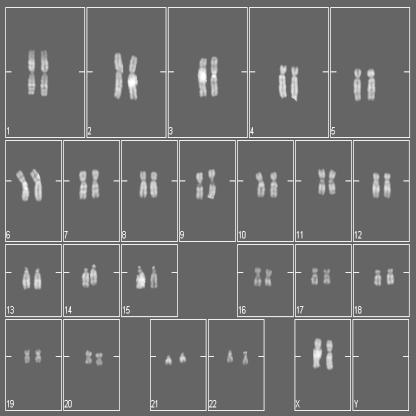1: (38, 48, 50, 96), (27, 48, 37, 96)
10: (253, 170, 266, 198), (268, 170, 280, 199)
11: (318, 165, 326, 198), (328, 168, 337, 197)
12: (372, 171, 380, 201), (384, 171, 392, 201)
13: (33, 266, 42, 292), (22, 265, 31, 290)
14: (80, 266, 90, 290), (89, 262, 98, 288)
15: (136, 264, 146, 292), (150, 263, 158, 294)
16: (264, 266, 274, 289), (253, 265, 262, 290)
17: (322, 266, 332, 288), (310, 266, 318, 284)
18: (372, 266, 382, 288), (386, 266, 394, 284)
19: (34, 348, 42, 366), (24, 346, 30, 364)
2: (113, 50, 124, 102), (127, 54, 138, 100)
20: (84, 348, 92, 368), (95, 351, 104, 368)
21: (164, 352, 172, 368), (179, 351, 187, 365)
22: (240, 348, 250, 368), (225, 348, 234, 366)
3: (198, 54, 208, 100), (212, 54, 219, 98)
4: (278, 62, 288, 100), (290, 65, 300, 103)
5: (366, 67, 378, 102), (353, 67, 362, 102)
6: (13, 169, 30, 204), (29, 165, 44, 204)
7: (90, 168, 101, 199), (78, 167, 87, 200)
8: (149, 170, 158, 200), (140, 169, 148, 200)
9: (206, 166, 218, 202), (196, 170, 204, 202)
X: (313, 335, 323, 371), (326, 337, 335, 371)
